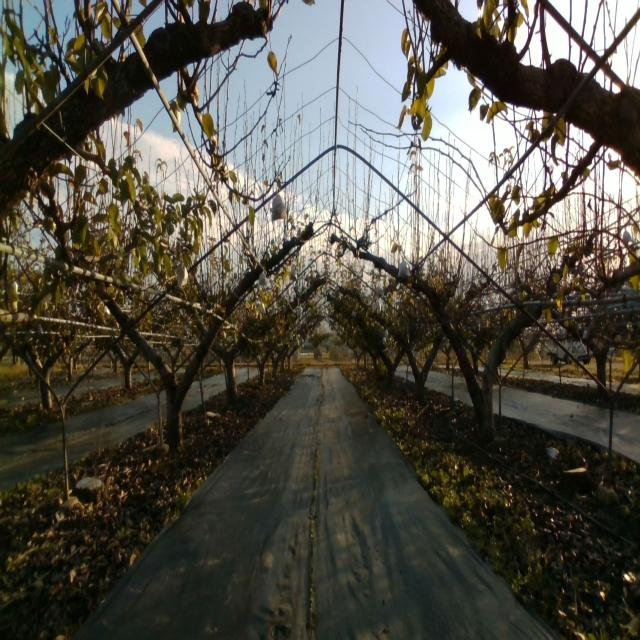pearbags: (270, 188, 286, 222), (176, 260, 188, 288), (397, 256, 411, 280)
